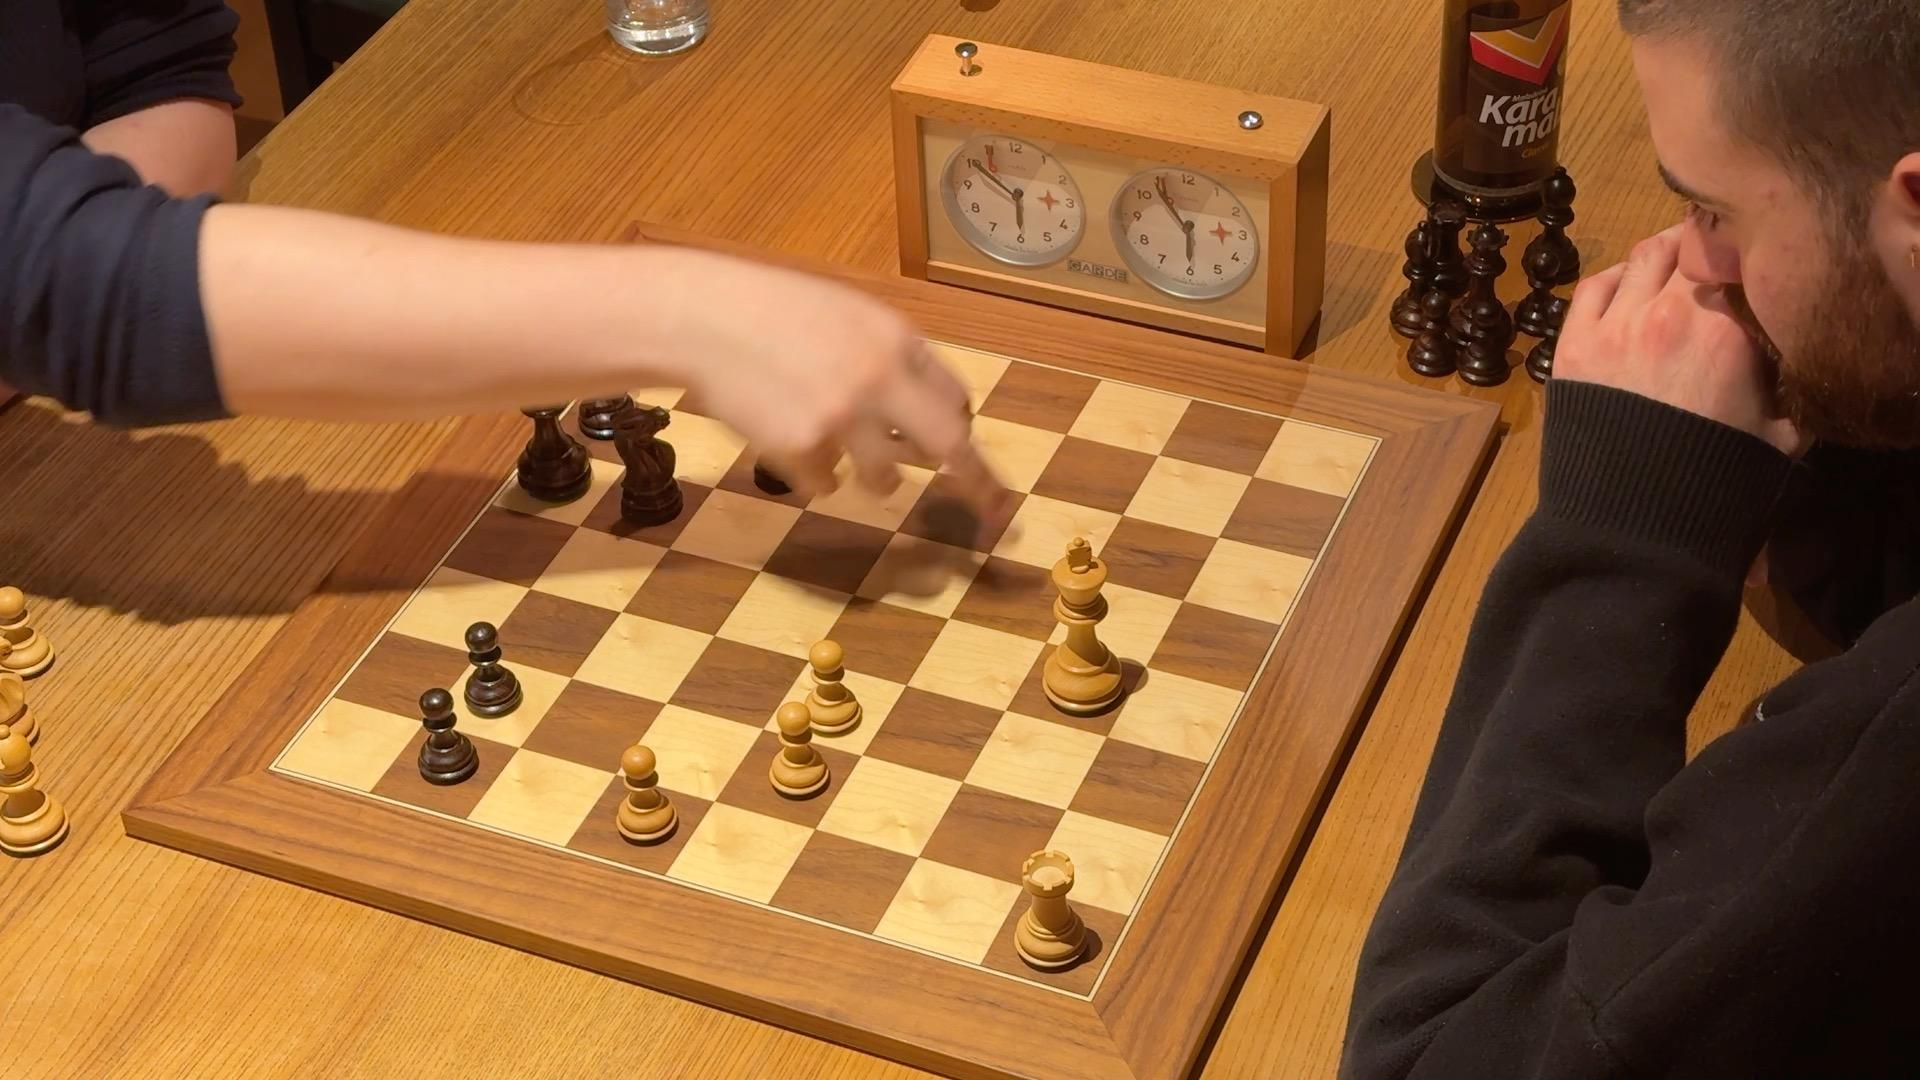Black King: (502, 330, 597, 513)
Black Knight: (599, 400, 698, 533)
Black Pawn: (409, 684, 483, 789), (454, 617, 524, 723)
White King: (1035, 535, 1134, 724)
White Pawn: (607, 738, 687, 855), (764, 696, 835, 806), (799, 628, 866, 738)
White Rook: (1004, 845, 1095, 977)
